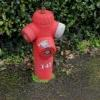a fire hydrant: (23, 4, 60, 89)
